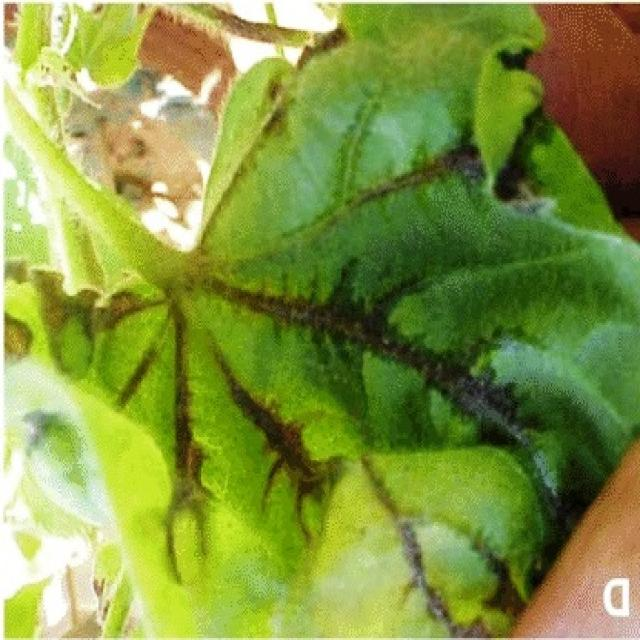Bacterial Blight: (192, 181, 580, 498)
